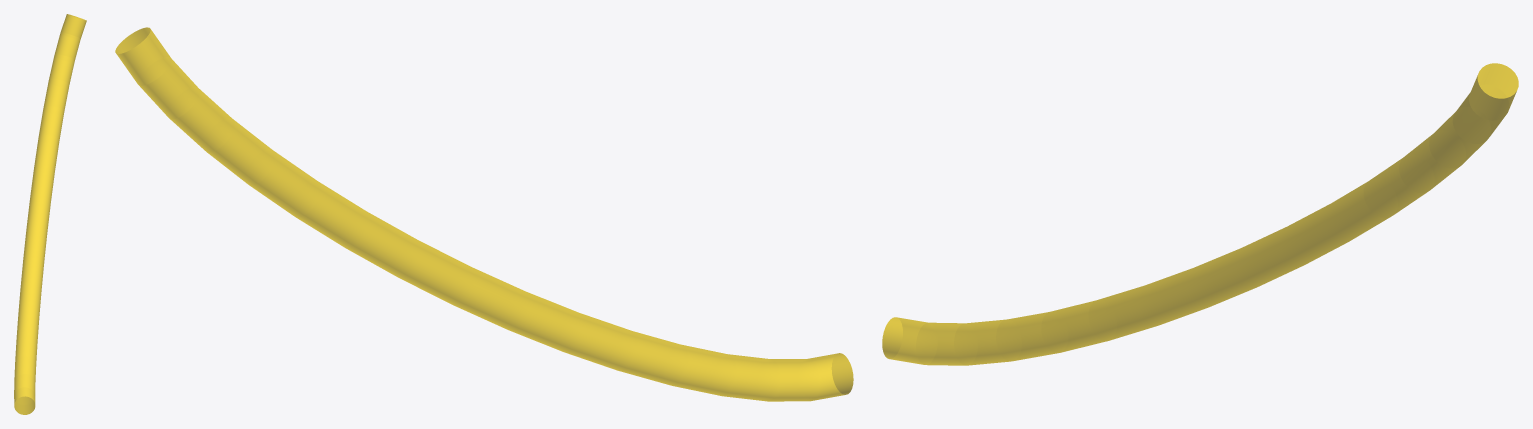
Rendered from Event_419990632_track_64.fbx.
3 views of the same model, side by side, from view 1: azimuth 30°, elevation 25°; view 2: azimuth 150°, elevation 25°; view 3: azimuth 270°, elevation 25° (orthographic). The views are drawn at different scales.
Visible parts, largest first — view 1: Model; view 2: Model; view 3: Model.
Part boxes in pixels (box(x1,y1,x2,y2)): Model: box(14, 14, 86, 414); Model: box(115, 27, 853, 401); Model: box(882, 63, 1518, 365).
Size of the model in its own units: 0.4768 by 0.5041 by 0.5992.
